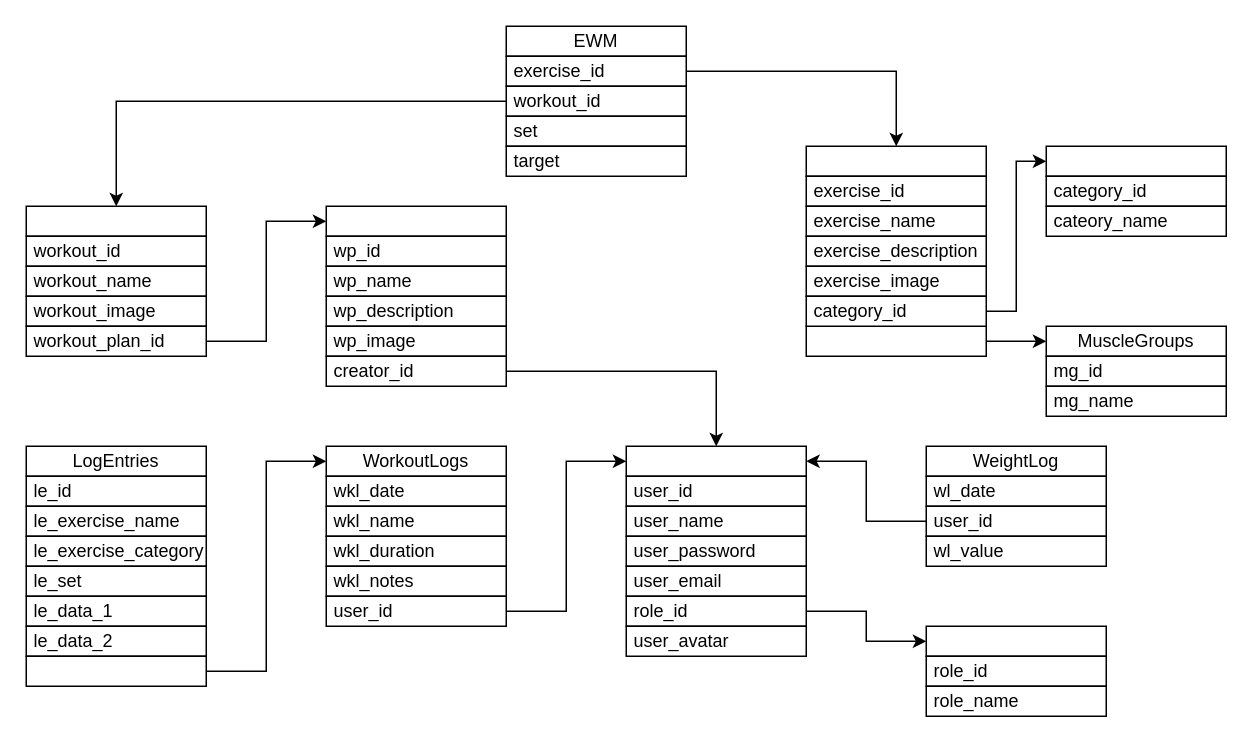
Image size: 1253x743. Some labels were removed from this diagram. The centre of each missing label's shape, as x and y in pixels:
Categories: (x=1135, y=160)
Exercises: (x=895, y=160)
muscle_group_id: (x=895, y=340)
Roles: (x=1015, y=640)
Users: (x=715, y=460)
wkl_id: (x=115, y=670)
WorkoutPlans: (x=415, y=220)
Workouts: (x=115, y=220)
